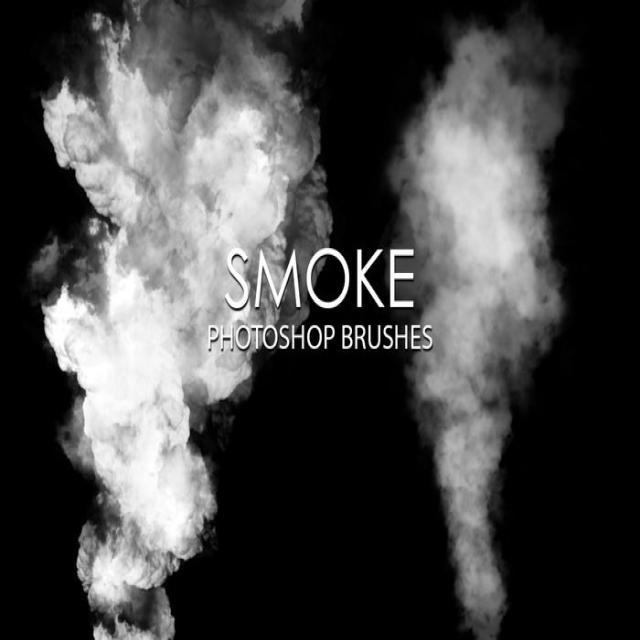Smoke: (28, 0, 332, 640), (383, 0, 582, 640)
